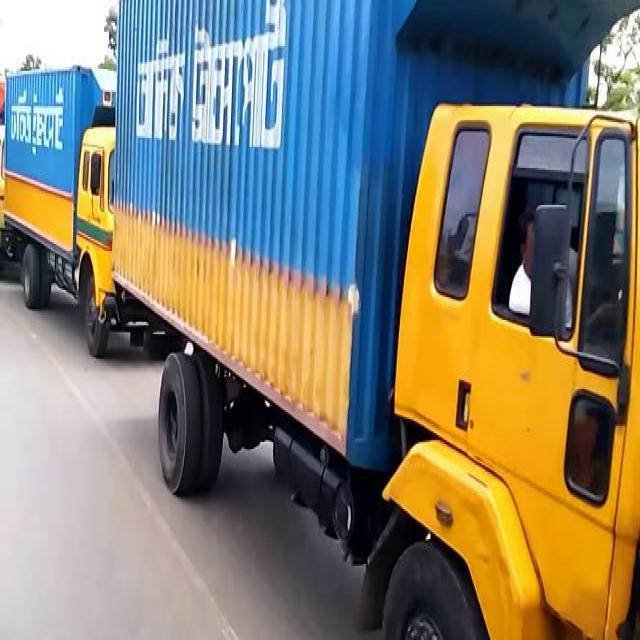vehicle: (112, 4, 639, 635), (2, 62, 129, 366)
